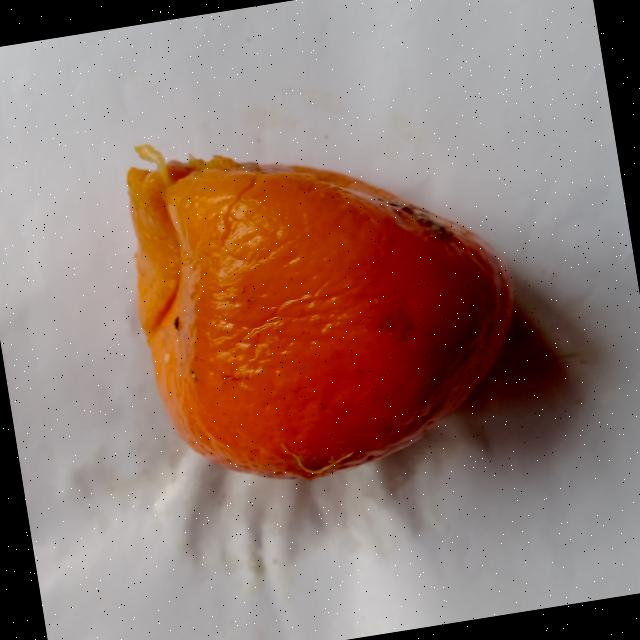Rotten: (108, 90, 532, 504)
